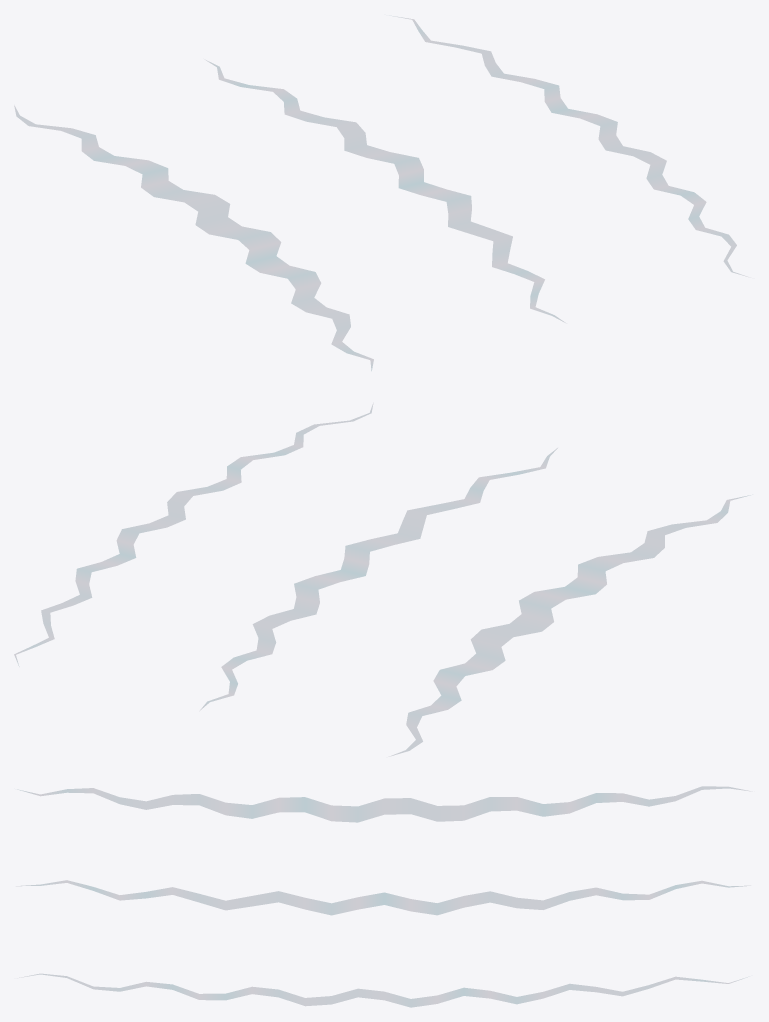
The model's file is GiantWaveWake.glb.
The picture shows the model from 3 angles, top to bottom: view 1: azimuth 30°, elevation 25°; view 2: azimuth 150°, elevation 25°; view 3: azimuth 270°, elevation 25°; orthographic projection. The views are drawn at different scales.
Parts seen in each view (by area): view 1: GiantWaveWake; view 2: GiantWaveWake; view 3: GiantWaveWake.
Part boxes in pixels (box(x1,y1,x2,y2)): GiantWaveWake: box(14, 15, 750, 371); GiantWaveWake: box(14, 402, 752, 756); GiantWaveWake: box(16, 786, 752, 1007).
Size of the model in its own units: 0.707 by 0 by 1.
